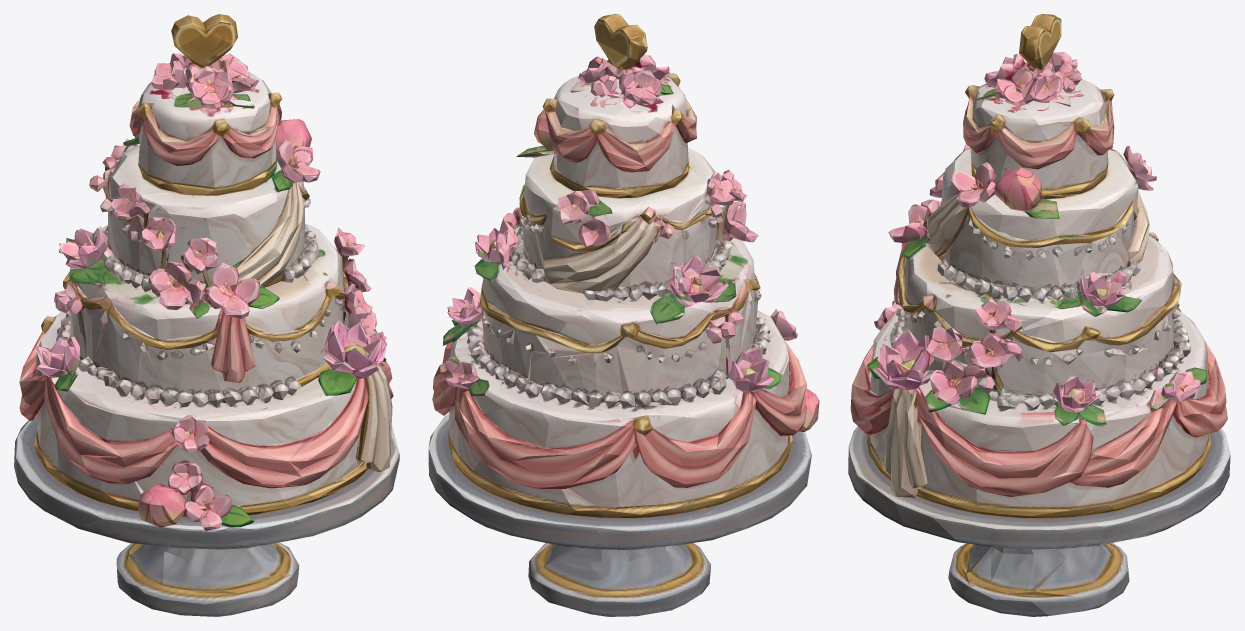
The model's file is wh_wedding_cake.fbx.
3 renders of one model, left to right at view 1: azimuth 30°, elevation 25°; view 2: azimuth 150°, elevation 25°; view 3: azimuth 270°, elevation 25°, orthographic.
Parts seen in each view (by area): view 1: wh_wedding_cake; view 2: wh_wedding_cake; view 3: wh_wedding_cake.
Part boxes in pixels (x1=…): wh_wedding_cake: x1=14, y1=14, x2=399, y2=616; wh_wedding_cake: x1=428, y1=14, x2=819, y2=616; wh_wedding_cake: x1=848, y1=14, x2=1230, y2=616.
Bounding box in the file's own units: 1.24 × 2 × 1.24.
